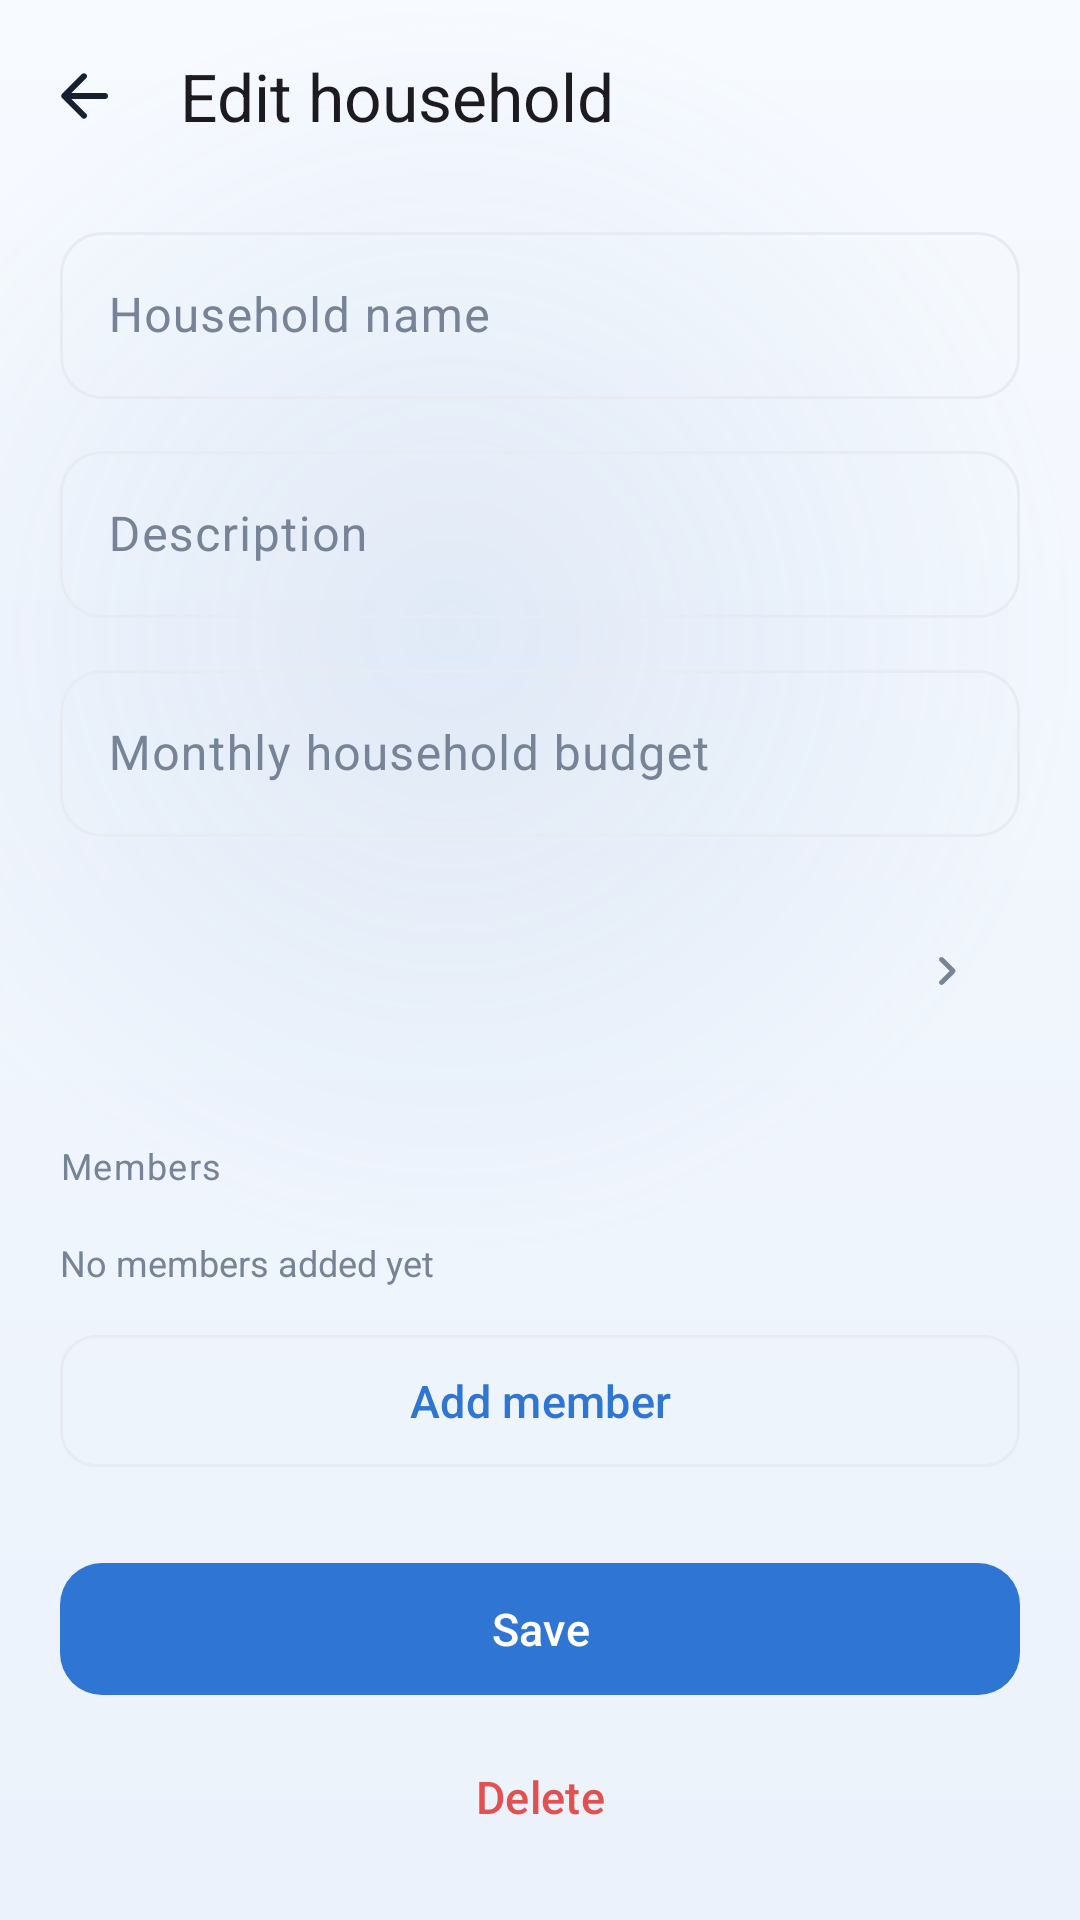

Screen size 1080px x 1920px. Icon name, then its box in pixels as detection(x1, y1, x2, y2):
chevron right: detection(939, 957, 956, 985)
